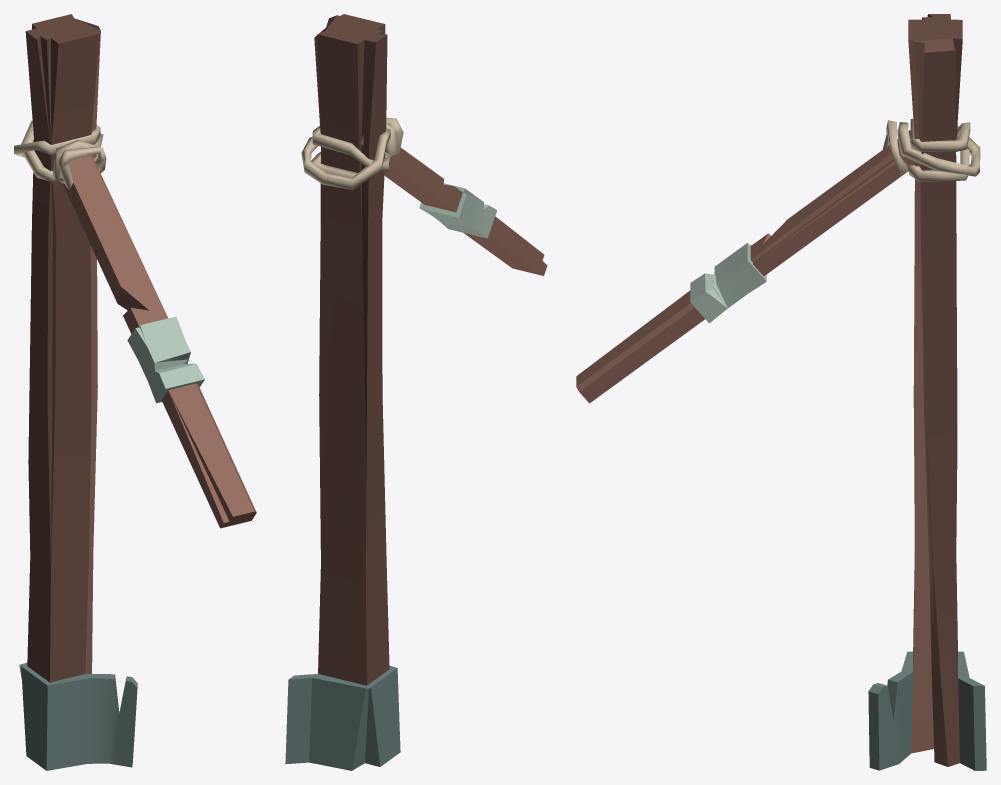
The model's file is SM_Cage_Broken_Pillar.fbx.
The picture shows the model from 3 angles, left to right: view 1: azimuth 30°, elevation 25°; view 2: azimuth 150°, elevation 25°; view 3: azimuth 270°, elevation 25°; orthographic projection.
Visible parts, largest first — view 1: SM_Cage_Broken_Pillar; view 2: SM_Cage_Broken_Pillar; view 3: SM_Cage_Broken_Pillar.
Boxes of the visible parts, <box> form: SM_Cage_Broken_Pillar: <box>14,14,256,770</box>; SM_Cage_Broken_Pillar: <box>285,14,547,770</box>; SM_Cage_Broken_Pillar: <box>576,14,986,770</box>.
Bounding box in the file's own units: 36.65 × 299 × 154.
